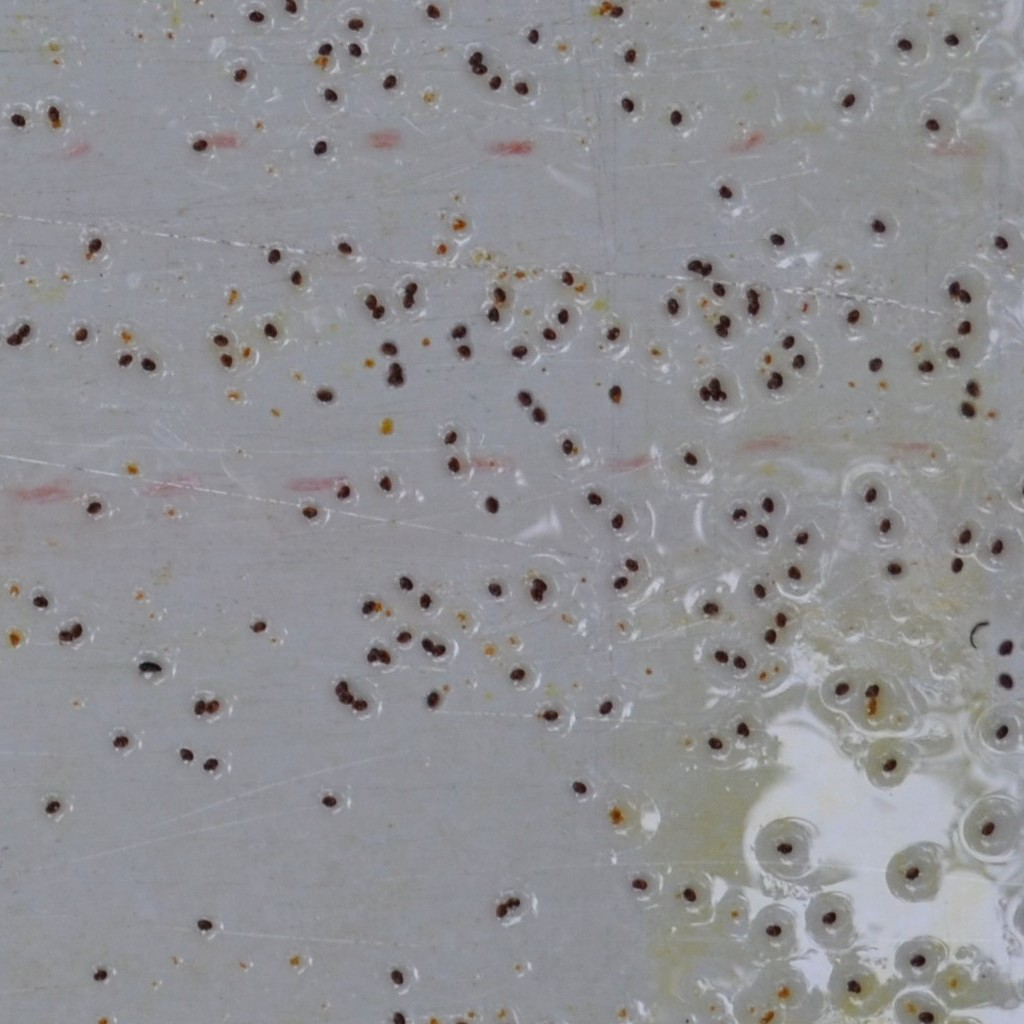varroa: (995, 668, 1017, 695), (416, 589, 438, 613), (137, 656, 163, 676), (715, 182, 740, 202), (395, 571, 414, 597), (941, 28, 962, 51), (767, 226, 788, 249), (988, 536, 1006, 562), (837, 91, 859, 112), (990, 232, 1010, 255), (909, 948, 929, 971), (375, 471, 395, 494), (623, 551, 641, 576), (333, 237, 354, 258), (700, 596, 719, 619), (334, 480, 353, 503), (608, 510, 626, 534), (446, 451, 462, 478), (943, 344, 964, 364), (844, 975, 865, 995), (868, 216, 889, 236), (424, 2, 444, 23), (880, 756, 900, 777), (195, 916, 215, 937), (995, 637, 1014, 659), (707, 732, 726, 754), (44, 797, 63, 819), (507, 665, 526, 687), (606, 380, 622, 406), (993, 720, 1011, 743), (493, 897, 509, 922), (32, 591, 52, 611), (247, 619, 267, 639), (511, 79, 532, 98), (314, 386, 335, 405), (539, 707, 560, 726), (884, 559, 906, 577), (894, 35, 914, 54), (379, 73, 398, 93), (114, 352, 133, 372), (200, 754, 219, 774), (90, 967, 110, 986), (963, 376, 981, 397), (667, 107, 685, 128), (486, 72, 504, 93), (531, 406, 549, 427), (831, 682, 852, 700), (486, 581, 504, 602), (957, 526, 974, 548), (515, 388, 532, 410), (483, 494, 500, 516), (231, 64, 247, 87), (559, 433, 575, 456), (204, 695, 220, 718), (425, 689, 441, 712), (959, 400, 978, 419), (902, 863, 921, 882), (776, 839, 795, 858), (730, 505, 749, 524), (585, 490, 604, 509), (524, 27, 542, 47), (558, 266, 573, 290), (610, 573, 630, 591), (980, 818, 997, 839), (85, 236, 106, 253), (453, 342, 470, 363), (875, 517, 896, 534), (681, 883, 697, 905), (751, 580, 767, 602), (377, 645, 393, 667), (862, 483, 877, 506), (321, 86, 340, 104), (262, 322, 281, 340), (916, 360, 935, 378), (509, 341, 528, 359), (682, 448, 700, 467), (730, 652, 749, 670), (597, 698, 615, 717), (570, 779, 589, 797), (440, 427, 458, 446), (84, 498, 103, 516), (112, 732, 130, 751), (780, 332, 797, 352), (620, 44, 636, 65), (556, 305, 572, 326), (760, 494, 776, 515), (754, 521, 770, 542), (714, 647, 730, 668), (190, 695, 205, 717), (948, 556, 966, 574), (347, 16, 365, 34), (449, 323, 467, 341), (539, 324, 557, 342), (863, 680, 881, 698), (321, 792, 339, 810), (218, 349, 235, 368), (379, 338, 398, 355), (793, 529, 810, 548), (733, 720, 750, 739), (389, 969, 406, 988), (531, 576, 548, 595), (299, 504, 318, 521), (394, 628, 413, 645), (915, 1008, 938, 1022), (210, 332, 230, 348), (665, 295, 681, 315), (527, 585, 543, 605), (419, 637, 435, 657), (312, 136, 327, 157), (267, 246, 282, 267), (957, 288, 974, 306), (956, 319, 973, 337), (765, 922, 783, 939), (248, 8, 266, 25), (387, 370, 405, 387), (713, 321, 731, 338), (786, 562, 803, 580), (761, 627, 778, 645), (619, 97, 638, 113), (466, 47, 485, 63), (316, 41, 335, 57), (138, 356, 157, 372), (493, 284, 509, 303), (867, 356, 883, 375), (790, 353, 806, 372), (773, 608, 789, 627), (630, 876, 650, 891), (818, 911, 841, 924), (685, 258, 702, 275), (923, 116, 941, 132), (347, 41, 363, 59), (190, 138, 208, 154), (178, 746, 194, 764), (336, 690, 354, 706), (607, 3, 626, 18), (4, 334, 23, 349), (73, 326, 88, 345), (486, 306, 501, 325), (70, 619, 83, 640), (471, 61, 488, 77), (370, 304, 386, 321), (711, 386, 728, 402), (433, 641, 449, 658), (360, 602, 377, 618), (334, 680, 350, 697), (351, 697, 369, 712), (401, 293, 415, 312), (699, 261, 713, 280), (44, 104, 60, 120), (387, 360, 403, 376), (604, 327, 621, 342), (58, 627, 73, 644), (947, 280, 961, 298), (403, 278, 417, 296), (698, 383, 710, 404), (290, 267, 303, 286), (10, 111, 25, 127), (361, 293, 376, 309), (744, 300, 760, 315), (846, 309, 860, 326), (389, 1009, 406, 1023), (17, 322, 31, 338), (284, 1, 300, 14), (772, 368, 784, 385), (365, 648, 379, 662), (505, 895, 521, 907), (718, 312, 731, 326), (745, 289, 759, 301), (708, 376, 721, 388), (765, 378, 779, 389)
